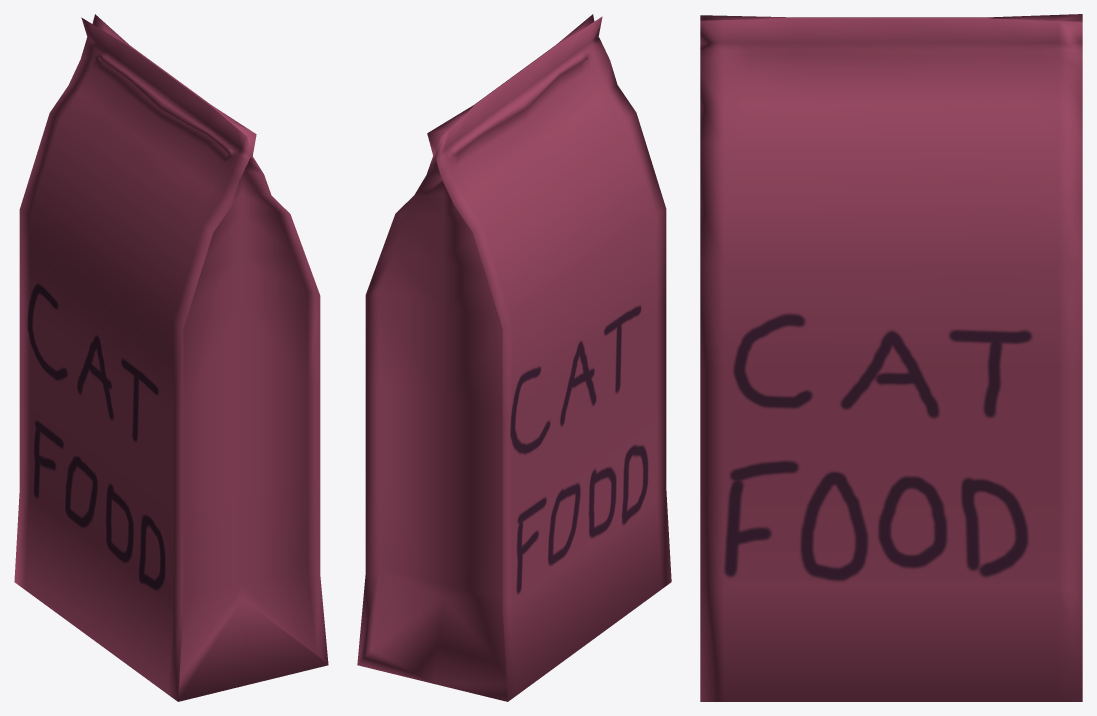
The model's file is cat_food.glb.
3 renders of one model, left to right at view 1: azimuth 30°, elevation 25°; view 2: azimuth 150°, elevation 25°; view 3: azimuth 270°, elevation 25°, orthographic. The views are drawn at different scales.
Visible parts, largest first — view 1: Plane; view 2: Plane; view 3: Plane.
Boxes of the visible parts, x1=… form: Plane: x1=14, y1=14, x2=328, y2=701; Plane: x1=357, y1=14, x2=671, y2=701; Plane: x1=700, y1=14, x2=1082, y2=701.
Bounding box in the file's own units: 1.02 × 3.55 × 1.92.
Materials: 1 (1 with a texture image).
